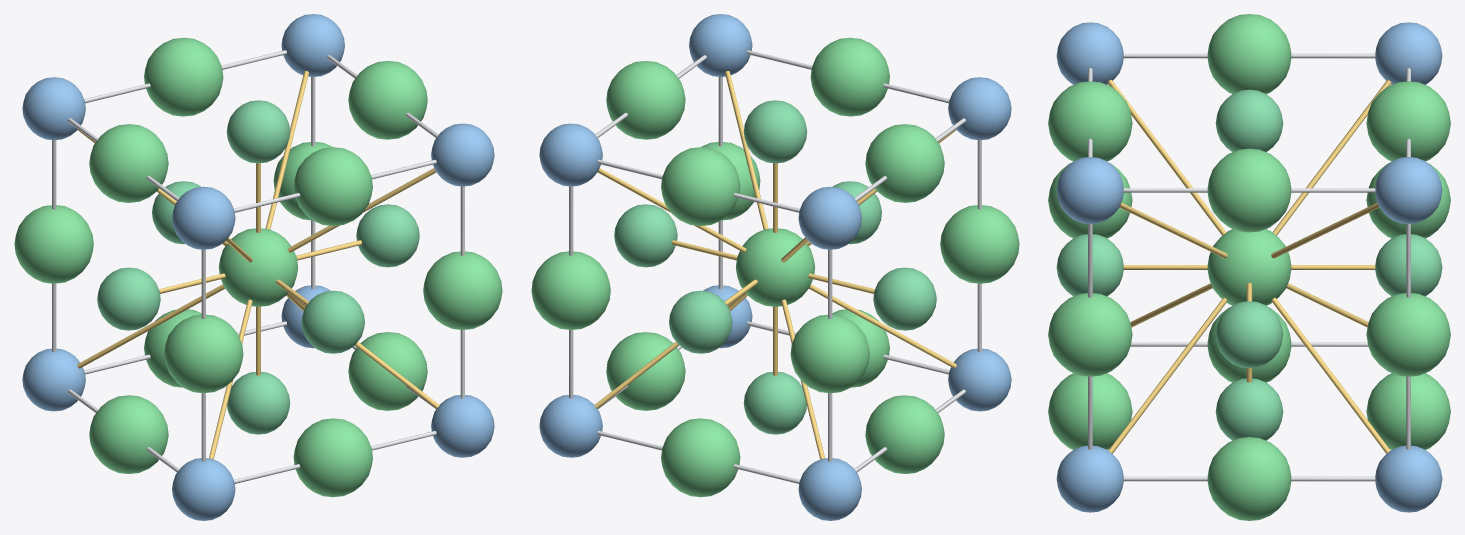
The model's file is crystal_lattices.glb.
3 views of the same model, side by side, from view 1: azimuth 30°, elevation 25°; view 2: azimuth 150°, elevation 25°; view 3: azimuth 270°, elevation 25° (orthographic). The views are drawn at different scales.
Visible parts, largest first — view 1: nacl_cl, sc_corners, fcc_faces, sc_edges, bcc_neighbours, nacl_neighbours; view 2: nacl_cl, sc_corners, fcc_faces, sc_edges, bcc_neighbours, nacl_neighbours; view 3: nacl_cl, sc_corners, fcc_faces, bcc_neighbours, sc_edges, nacl_neighbours.
Boxes of the visible parts, left/top/right/bottom form: nacl_cl: left=14, top=37, right=502, bottom=497; sc_corners: left=22, top=14, right=494, bottom=520; fcc_faces: left=97, top=100, right=419, bottom=434; sc_edges: left=52, top=50, right=464, bottom=483; bcc_neighbours: left=77, top=71, right=439, bottom=459; nacl_neighbours: left=159, top=163, right=361, bottom=375; nacl_cl: left=531, top=37, right=1019, bottom=497; sc_corners: left=539, top=14, right=1011, bottom=520; fcc_faces: left=614, top=100, right=936, bottom=434; sc_edges: left=569, top=50, right=981, bottom=483; bcc_neighbours: left=594, top=71, right=956, bottom=459; nacl_neighbours: left=672, top=163, right=874, bottom=375; nacl_cl: left=1048, top=14, right=1450, bottom=520; sc_corners: left=1056, top=22, right=1442, bottom=512; fcc_faces: left=1056, top=89, right=1442, bottom=440; bcc_neighbours: left=1107, top=79, right=1391, bottom=453; sc_edges: left=1088, top=53, right=1410, bottom=481; nacl_neighbours: left=1123, top=265, right=1375, bottom=382.
Size of the model in its own units: 0.1013 by 0.1013 by 0.1013.
